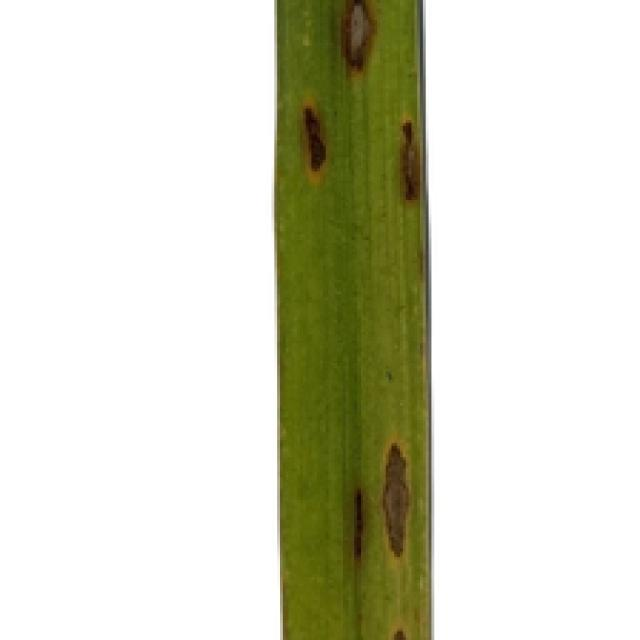Rice___Rice_Blast: (275, 0, 435, 637)
